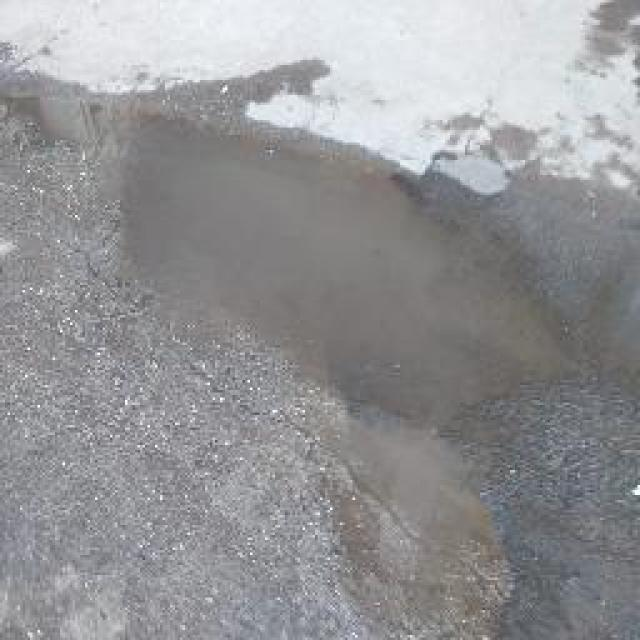stagnation: (121, 89, 567, 423)
